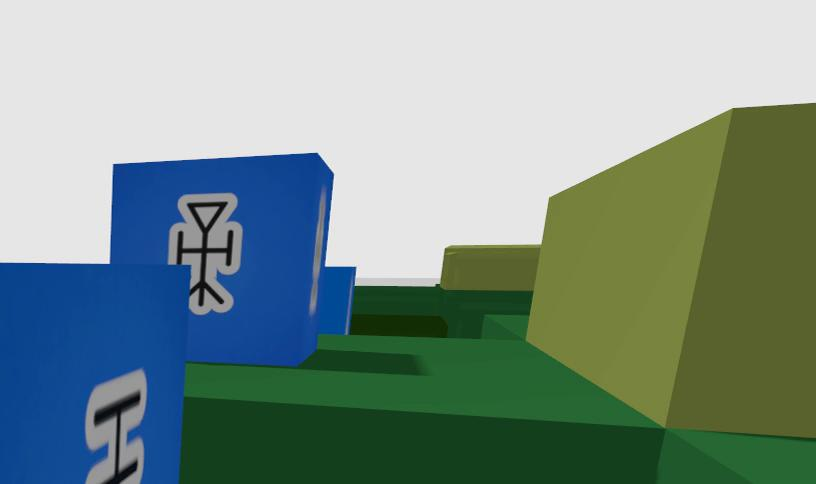KFS_REAL: (110, 154, 332, 364), (0, 264, 190, 484), (168, 193, 241, 314), (85, 369, 147, 484), (318, 266, 356, 334)
